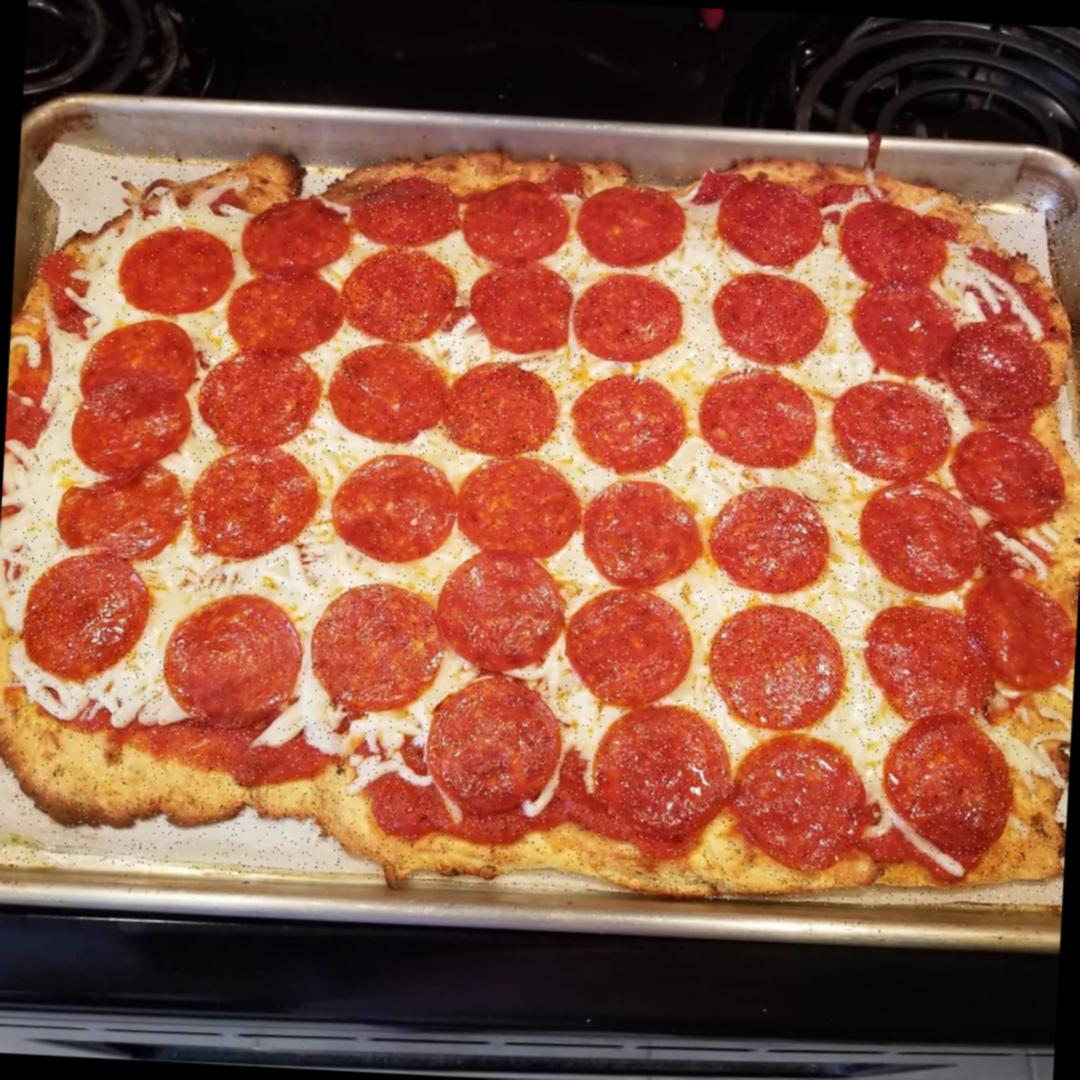Pepperoni: (588, 704, 742, 842), (878, 712, 1016, 857), (734, 732, 872, 873), (426, 668, 562, 809), (72, 318, 197, 468), (708, 602, 852, 732), (165, 590, 301, 726), (307, 580, 439, 719), (560, 585, 700, 709), (862, 605, 998, 730), (25, 554, 154, 681), (326, 451, 460, 568), (433, 557, 567, 674), (190, 445, 316, 561), (954, 414, 1074, 535), (958, 573, 1078, 694), (858, 483, 982, 597), (582, 479, 704, 594), (454, 455, 581, 562), (441, 352, 562, 460), (196, 345, 317, 450), (325, 340, 447, 444), (832, 382, 953, 485), (696, 367, 814, 472), (567, 262, 688, 364), (568, 370, 684, 476), (709, 273, 830, 371), (716, 175, 831, 278), (717, 490, 832, 592), (572, 180, 702, 269), (948, 322, 1060, 419), (232, 192, 355, 278), (454, 182, 576, 268), (462, 263, 571, 358), (846, 284, 955, 378), (116, 226, 232, 314), (344, 250, 456, 340), (60, 475, 188, 552), (228, 272, 346, 352), (354, 170, 459, 246), (841, 202, 943, 280)
Pizza: (0, 141, 1080, 917)
